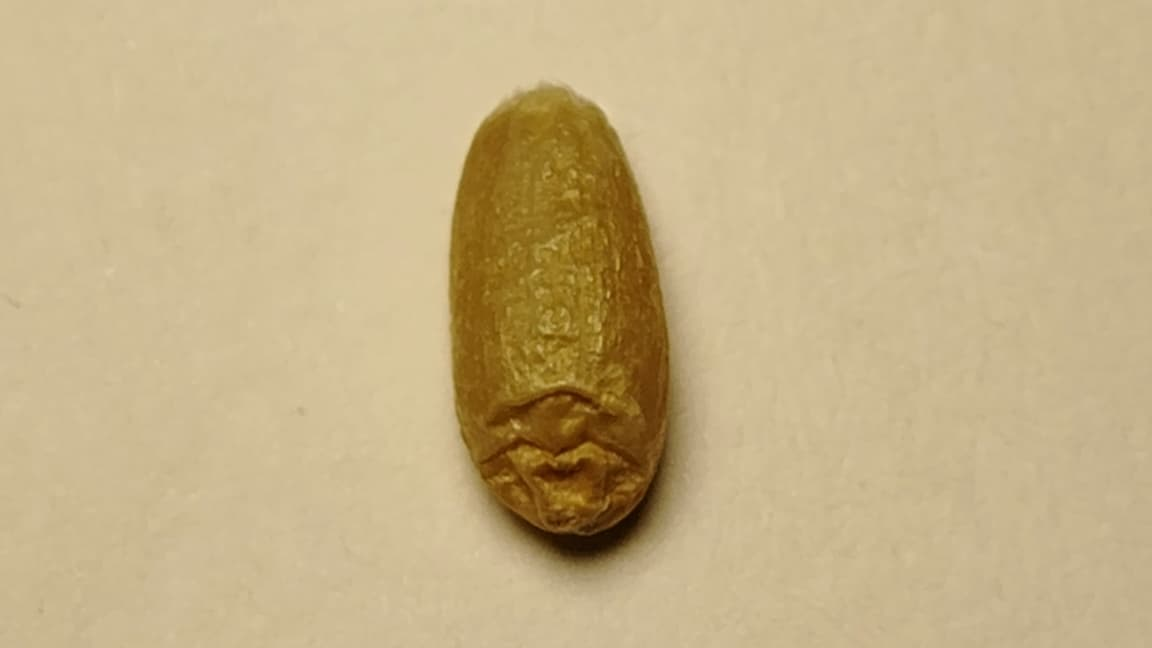healthy: (450, 82, 668, 534)
